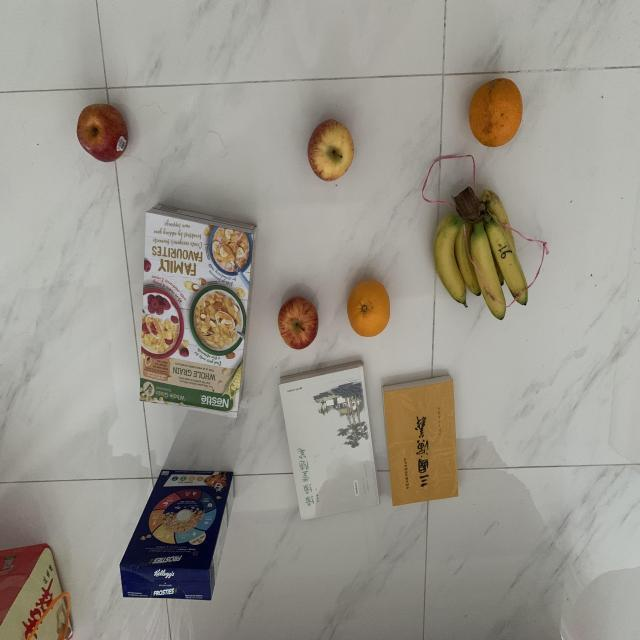Apple: (69, 98, 134, 169), (304, 116, 356, 188), (274, 292, 318, 350)
Banana: (431, 185, 534, 326)
Book: (276, 359, 382, 524), (379, 373, 460, 510)
Cerealbox: (134, 193, 263, 419), (119, 457, 238, 606)
Orange: (467, 75, 527, 150), (341, 273, 395, 344)
